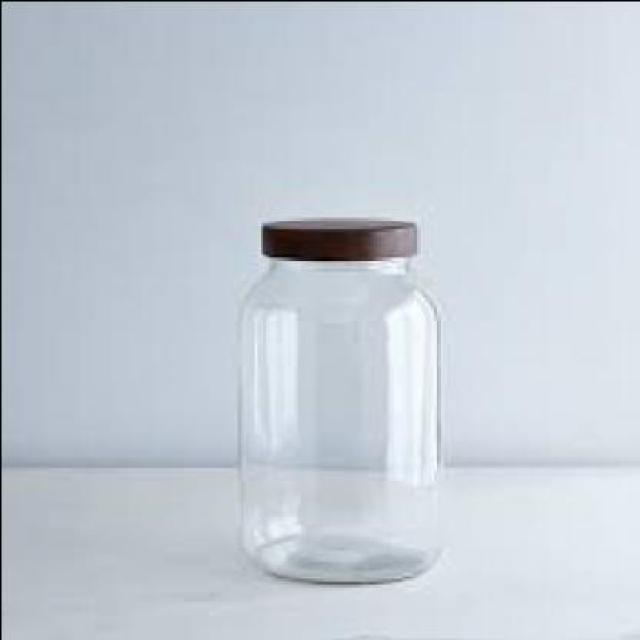GLASS: (236, 254, 438, 580)
PLASTIC: (264, 213, 418, 259)
